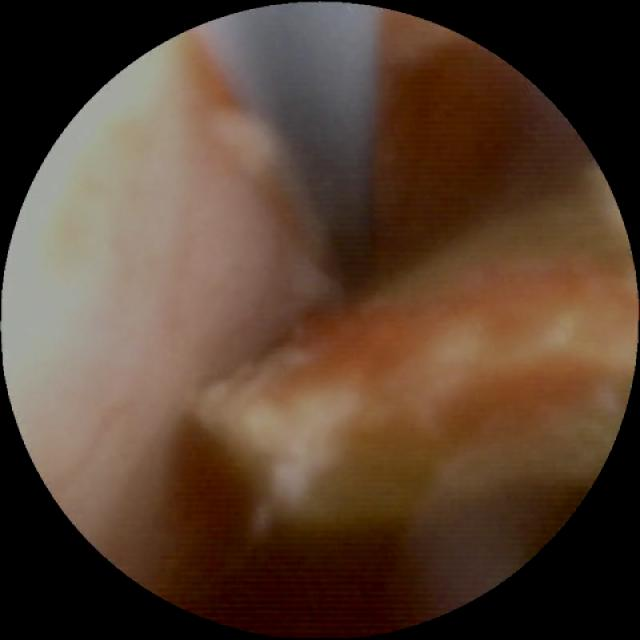stone: (196, 196, 629, 527)
